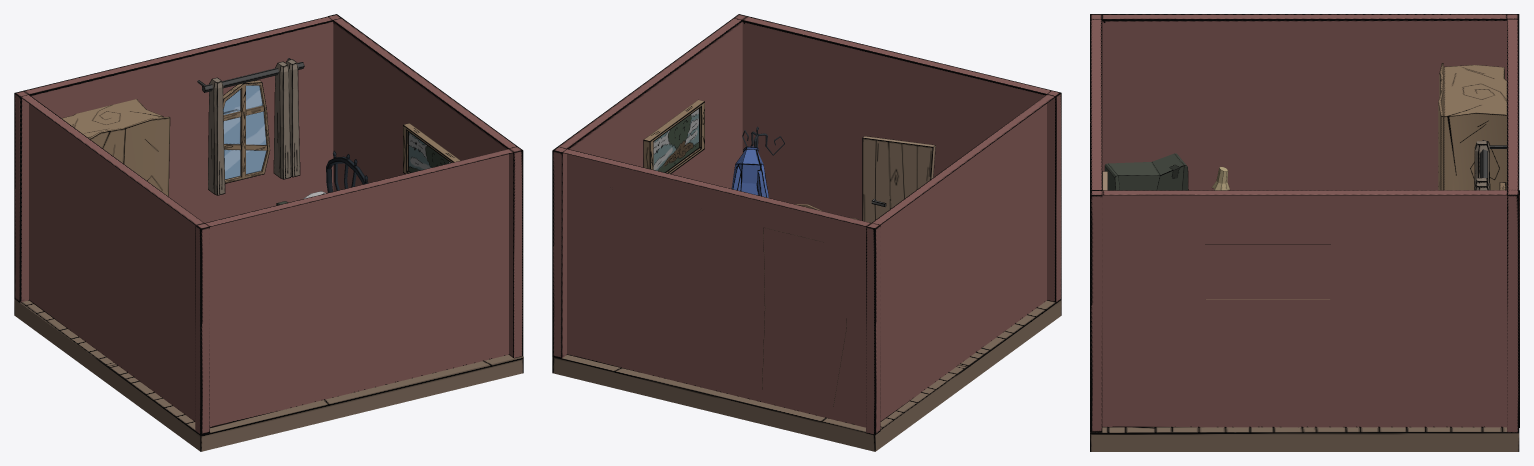
File: Taverne_chambre_rangee.fbx
The picture shows the model from 3 angles, left to right: view 1: azimuth 30°, elevation 25°; view 2: azimuth 150°, elevation 25°; view 3: azimuth 270°, elevation 25°; orthographic projection. The views are drawn at different scales.
Visible parts, largest first — view 1: mur_front2, mur_left2, mur_back2, mur_right2, sol2, armoire, fenetre10, Rideau1, Rideau2, tableau, Rideau, Lit2 (+1 smaller); view 2: mur_back2, mur_left2, mur_front2, mur_right2, sol2, porte_R5, tableau, Menteau1; view 3: mur_right2, mur_left2, sol2, armoire, mur_front2, mur_back2, fauteuil.
Boxes of the visible parts, left/top/right/bottom form: mur_front2: left=195, top=146, right=522, bottom=434; mur_left2: left=19, top=94, right=209, bottom=434; mur_back2: left=14, top=14, right=341, bottom=302; mur_right2: left=328, top=14, right=523, bottom=358; sol2: left=14, top=299, right=523, bottom=451; armoire: left=62, top=99, right=170, bottom=196; fenetre10: left=223, top=80, right=270, bottom=183; Rideau1: left=273, top=61, right=290, bottom=179; Rideau2: left=208, top=77, right=225, bottom=195; tableau: left=403, top=123, right=460, bottom=173; Rideau: left=285, top=59, right=300, bottom=177; Lit2: left=276, top=150, right=368, bottom=205; mur_back2: left=553, top=146, right=880, bottom=434; mur_left2: left=866, top=94, right=1055, bottom=435; mur_front2: left=734, top=14, right=1061, bottom=302; mur_right2: left=552, top=18, right=742, bottom=358; sol2: left=552, top=299, right=1061, bottom=451; porte_R5: left=862, top=136, right=935, bottom=222; tableau: left=643, top=99, right=704, bottom=173; Menteau1: left=731, top=146, right=768, bottom=197; mur_right2: left=1102, top=190, right=1519, bottom=427; mur_left2: left=1090, top=14, right=1519, bottom=190; sol2: left=1090, top=427, right=1519, bottom=451; armoire: left=1438, top=63, right=1506, bottom=190; mur_front2: left=1090, top=14, right=1102, bottom=432; mur_back2: left=1507, top=14, right=1519, bottom=432; fauteuil: left=1104, top=153, right=1188, bottom=190.
Size of the model in its own units: 532 by 351 by 532.
